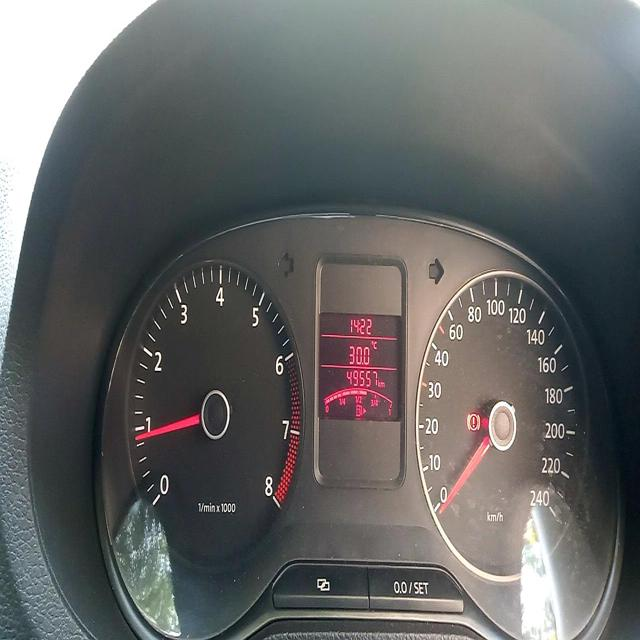odometer: (343, 365, 380, 390)
